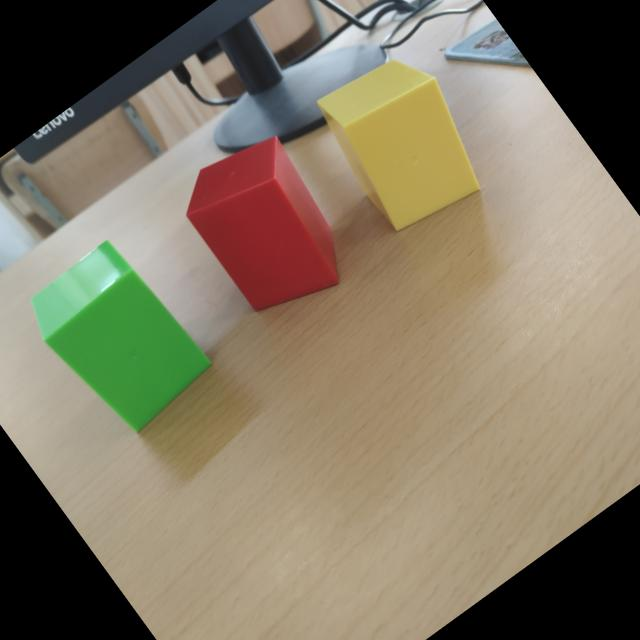green: (31, 240, 212, 432)
red: (185, 137, 340, 312)
yellow: (318, 60, 481, 231)
